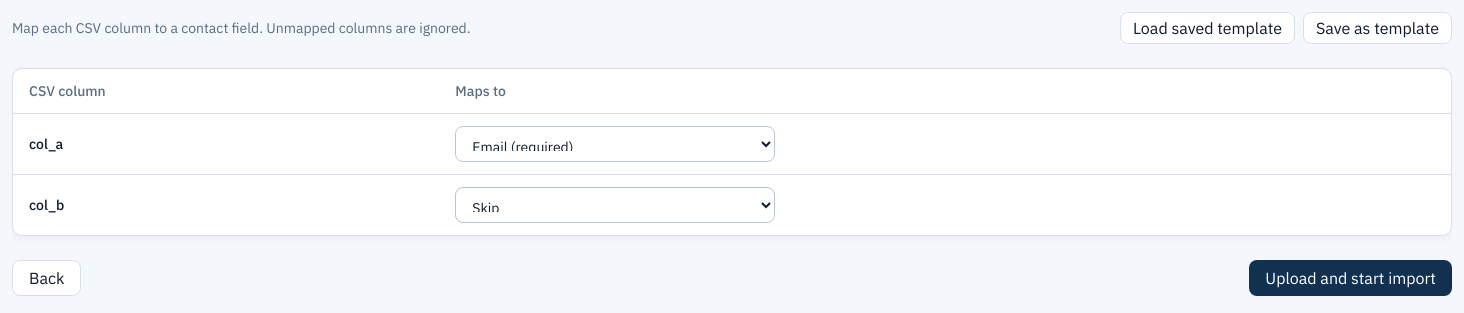
Test: MappingStep › clears duplicate singleton mappings (email can only be mapped once)
The width and height of the screenshot is (1464, 313).
Select "Email (required)" in the dropdown named "Map column \"col_b\"" at (615, 205), box [455,187,775,223]
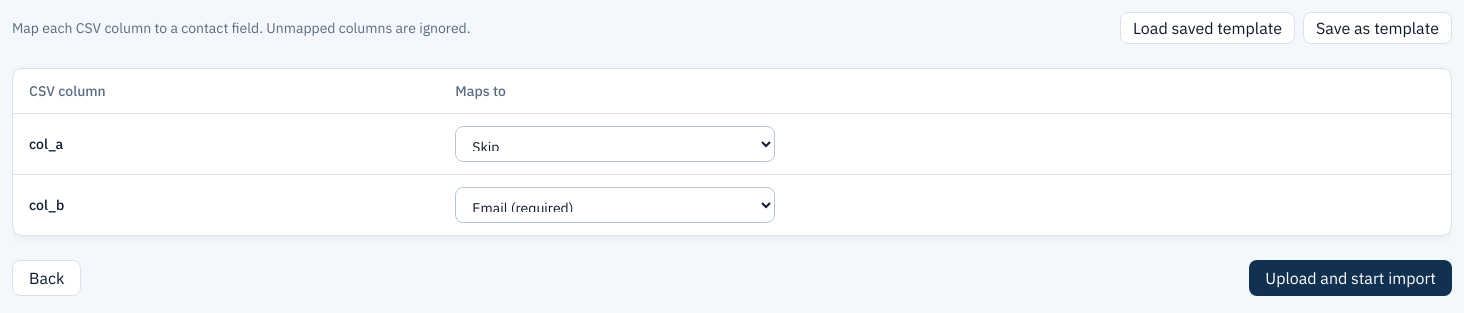
expect the dropdown named "Map column \"col_a\"" shows "Skip": met, box [455,126,775,162]
